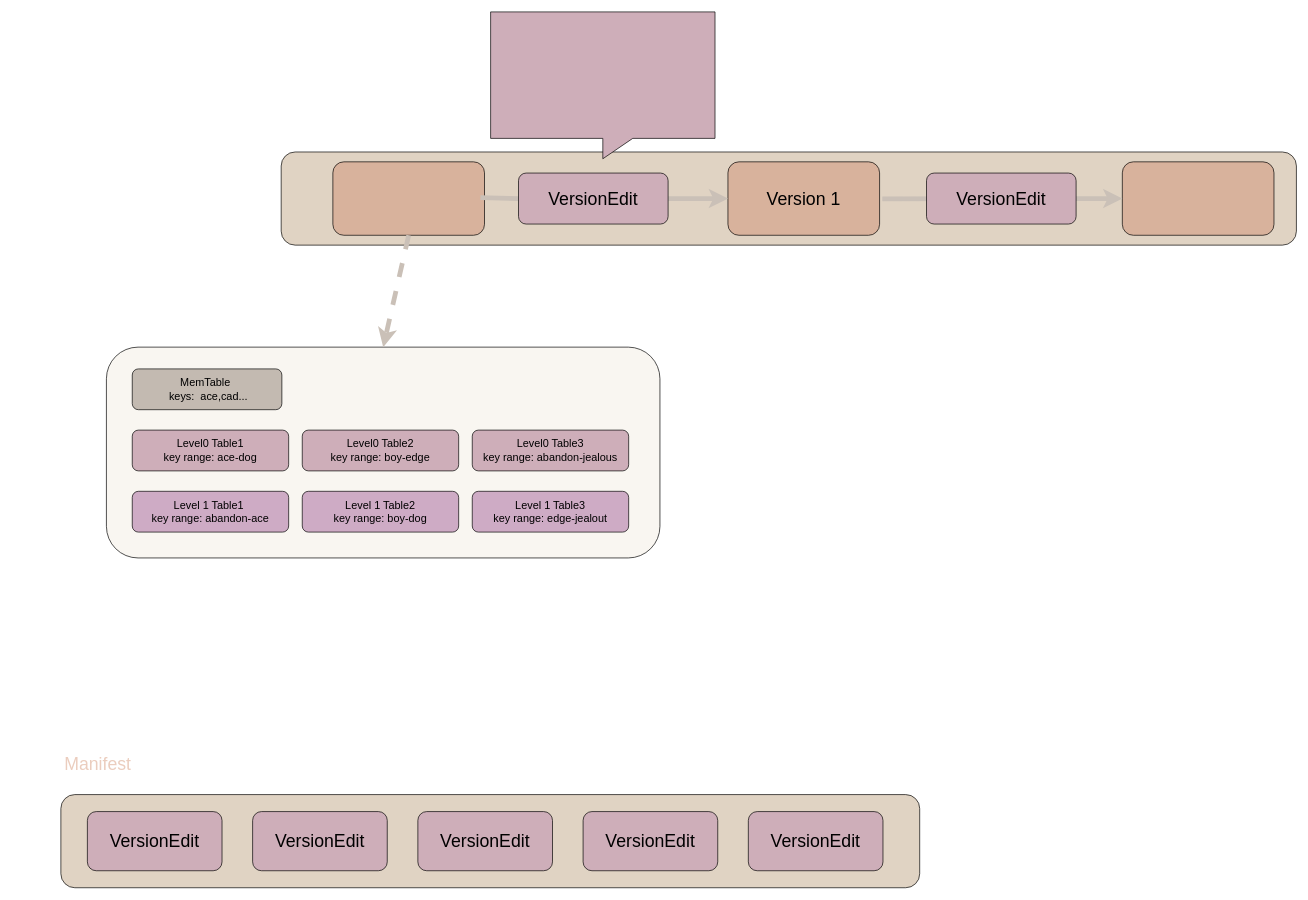
Some shapes in this 1308 by 900 pixel diagram are drawn without their labels. The centre of each missing label's shape, as x and y in pixels:
1. add table 14 2. remove table 8 3. remove table 11: (x=602, y=85)
Version 0: (x=408, y=198)
Version 2: (x=1198, y=198)
